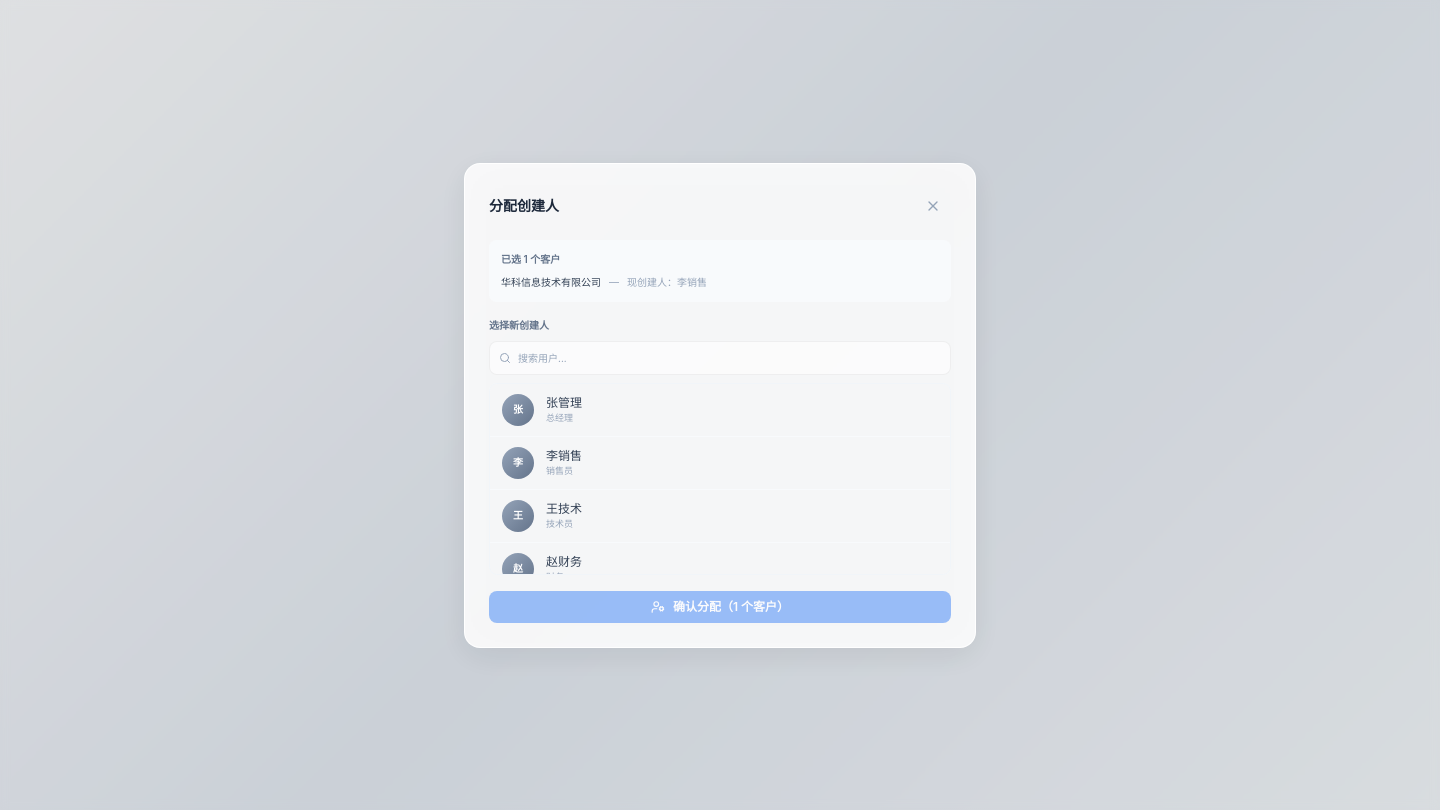
Scenario: ReassignModal › shows "无匹配用户" when search has no results
Type "不存在的用户xyz" into the field with placeholder "搜索用户...".
click(720, 358); type("不存在的用户xyz")  # box [489,340,951,374]
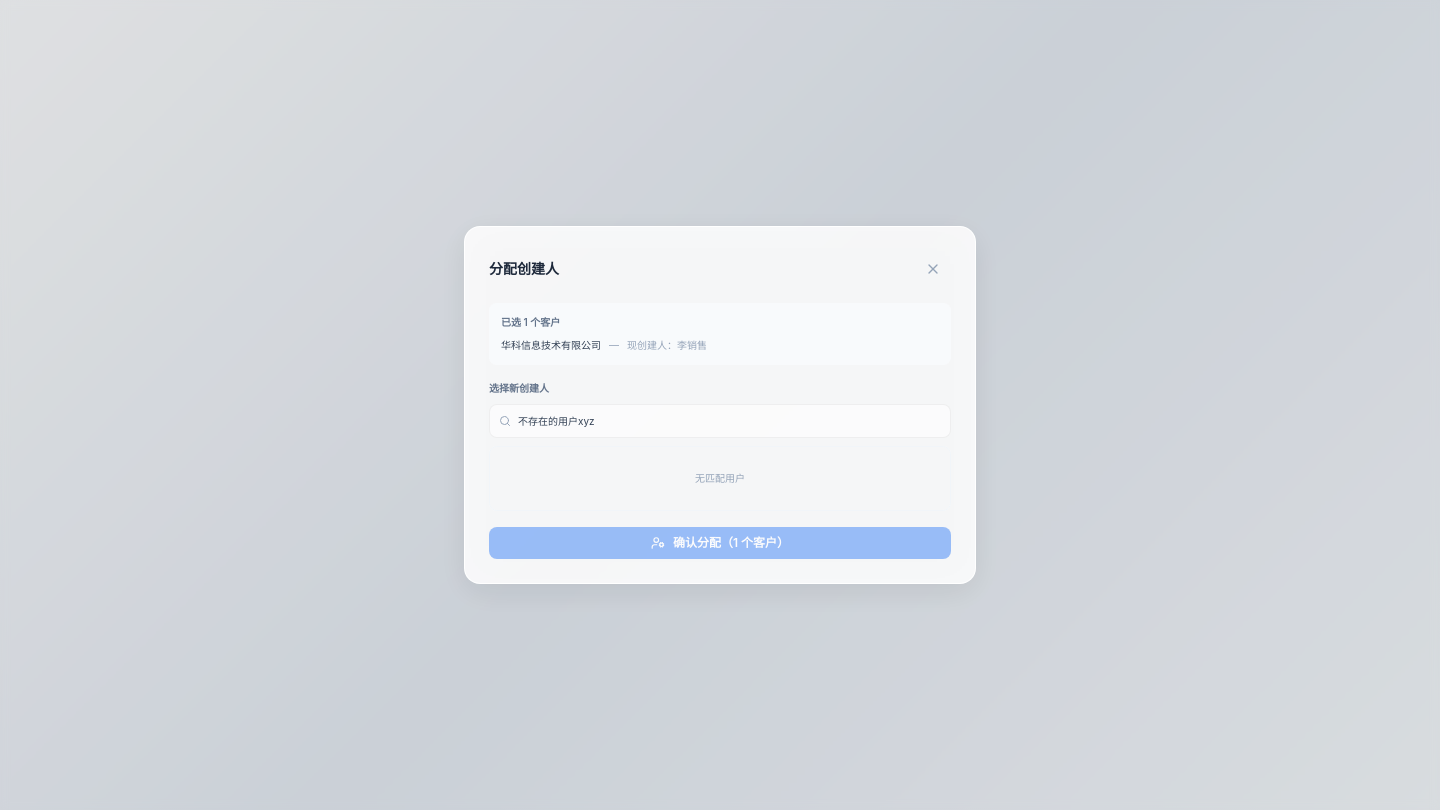
Check: the text "无匹配用户" is shown, box [695,472,745,484]
